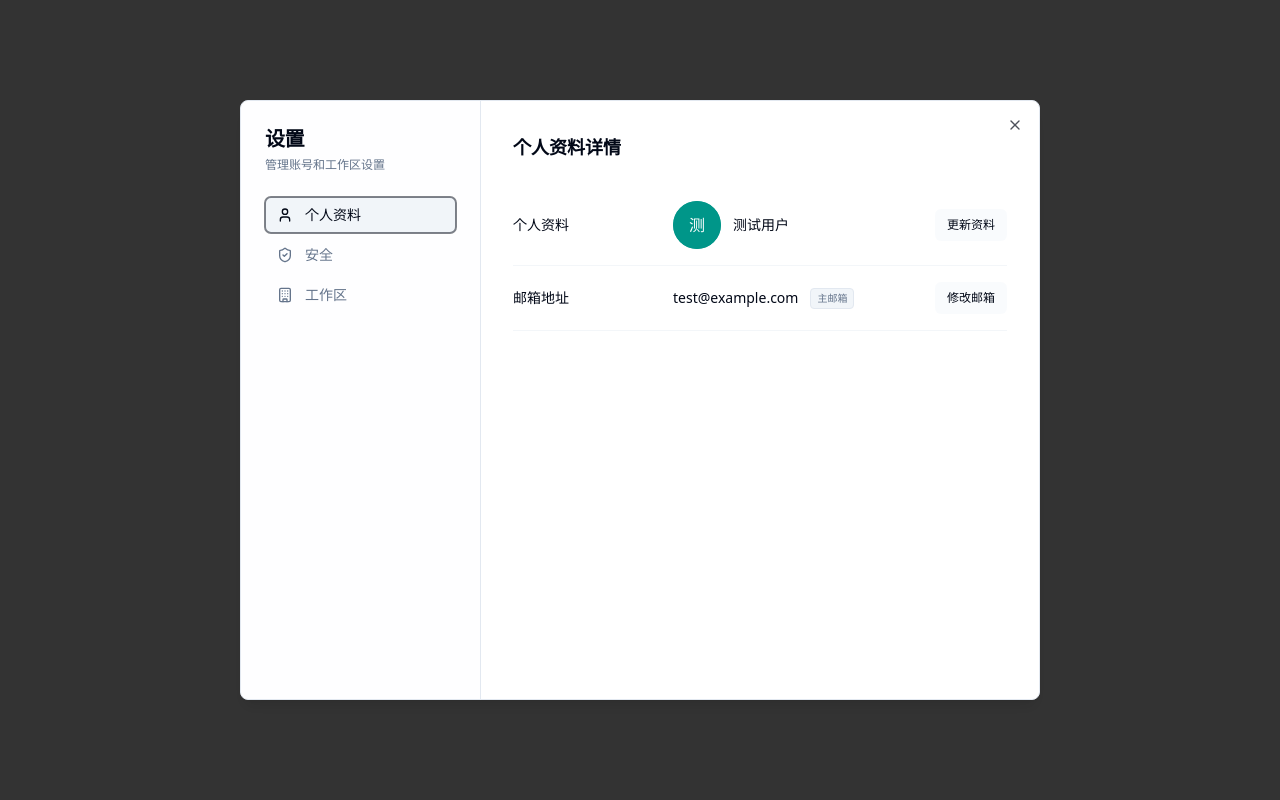
Test: SettingsModal › 安全 Tab › 切换到安全 Tab 应该显示安全内容
Click the button "安全".
click(360, 255)  # box [265, 237, 456, 273]
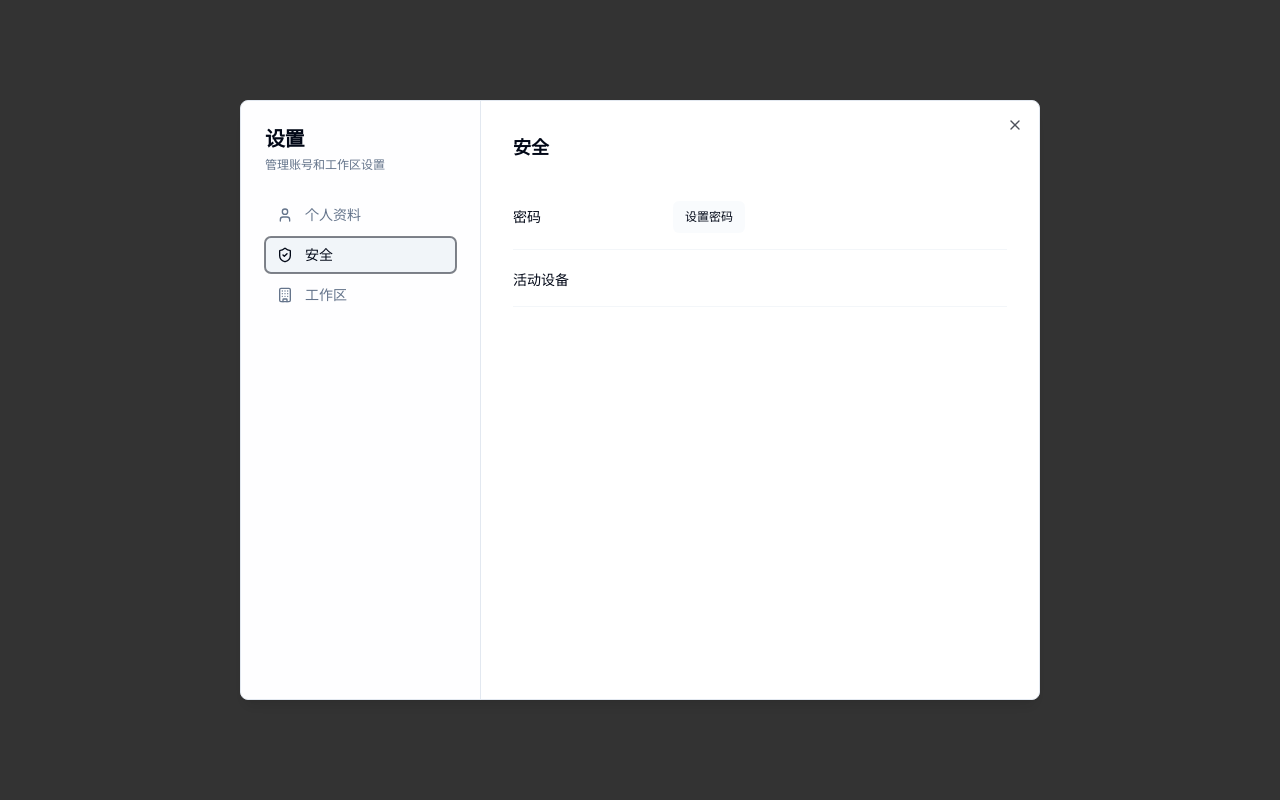
Now the text "密码" is shown, box [513, 207, 541, 226]
Now the text "活动设备" is shown, box [513, 270, 569, 289]
